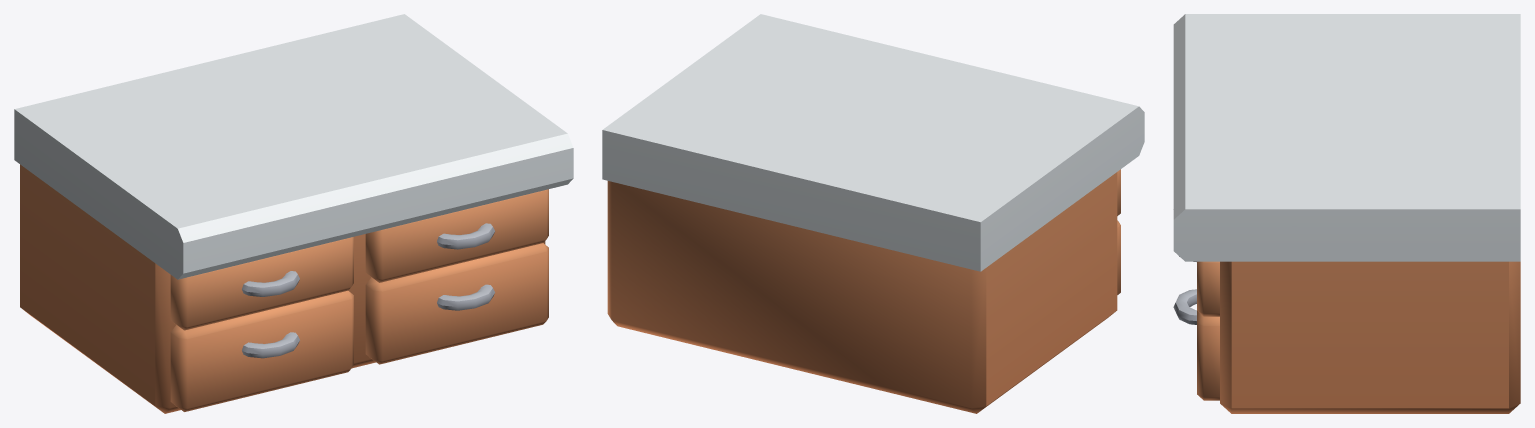
The model's file is Countertop Straight-ipDw2lbUn2.glb.
The picture shows the model from 3 angles, left to right: view 1: azimuth 30°, elevation 25°; view 2: azimuth 150°, elevation 25°; view 3: azimuth 270°, elevation 25°; orthographic projection. The views are drawn at different scales.
Visible parts, largest first — view 1: countertop_straight_B; view 2: countertop_straight_B; view 3: countertop_straight_B.
Part boxes in pixels (x1=…): countertop_straight_B: x1=14, y1=14, x2=573, y2=413; countertop_straight_B: x1=602, y1=14, x2=1144, y2=413; countertop_straight_B: x1=1173, y1=14, x2=1520, y2=413.
Size of the model in its own units: 2 by 1 by 1.5.
Materials: 1 (1 with a texture image).
